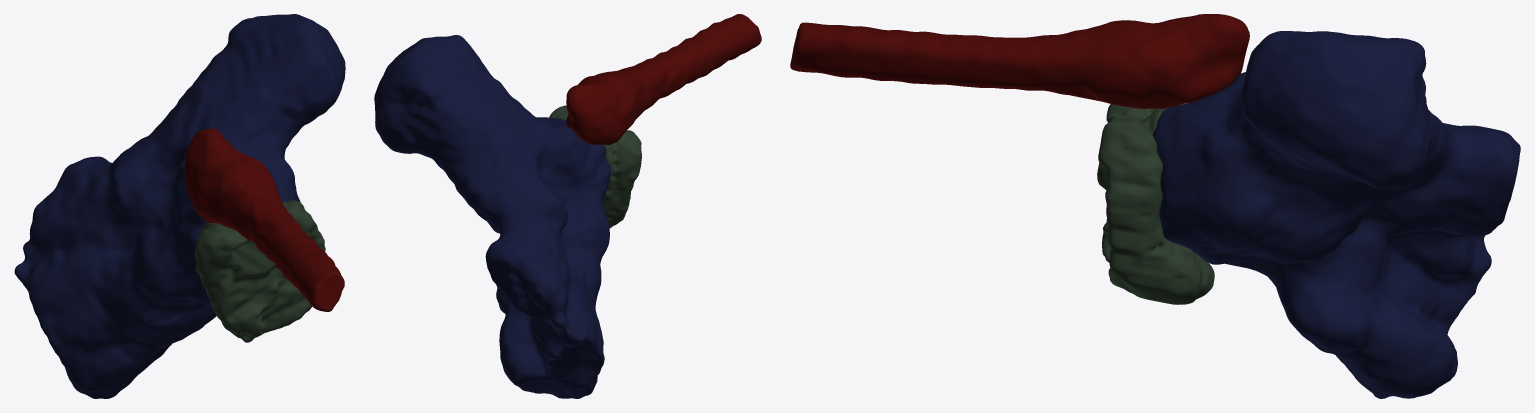
Rendered from distal_2522.obj.
The picture shows the model from 3 angles, left to right: view 1: azimuth 30°, elevation 25°; view 2: azimuth 150°, elevation 25°; view 3: azimuth 270°, elevation 25°; orthographic projection. The views are drawn at different scales.
Parts seen in each view (by area): view 1: 2_JOINT_SC_3_segmentation.001; view 2: 2_JOINT_SC_3_segmentation.001; view 3: 2_JOINT_SC_3_segmentation.001.
Part boxes in pixels (x1,y1,x2,y2): 2_JOINT_SC_3_segmentation.001: (14, 14, 345, 398); 2_JOINT_SC_3_segmentation.001: (374, 14, 761, 398); 2_JOINT_SC_3_segmentation.001: (790, 14, 1520, 398).
Bounding box in the file's own units: 0.0912 × 0.1113 × 0.1548.
